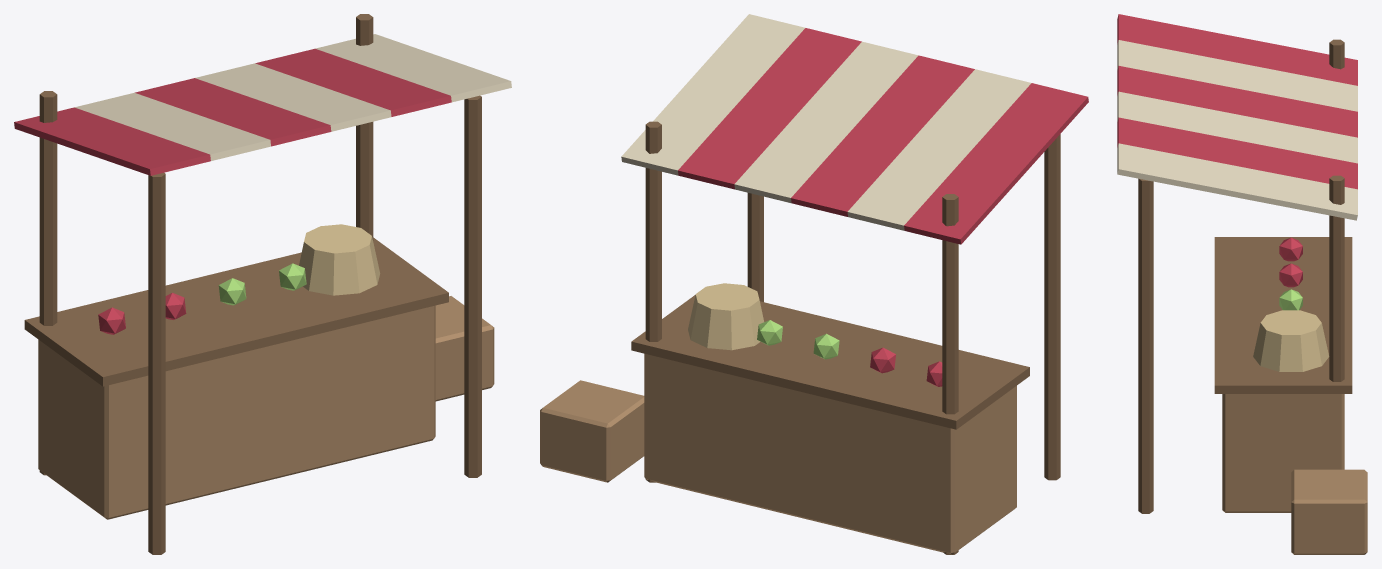
File: Market_Stall.glb
The picture shows the model from 3 angles, left to right: view 1: azimuth 30°, elevation 25°; view 2: azimuth 150°, elevation 25°; view 3: azimuth 270°, elevation 25°; orthographic projection. The views are drawn at different scales.
Parts seen in each view (by area): view 1: Market_Stall; view 2: Market_Stall; view 3: Market_Stall.
Boxes of the visible parts, <box> form: Market_Stall: <box>14,14,511,554</box>; Market_Stall: <box>540,14,1088,554</box>; Market_Stall: <box>1117,14,1367,554</box>.
Bounding box in the file's own units: 2.95 × 2.54 × 1.64.
